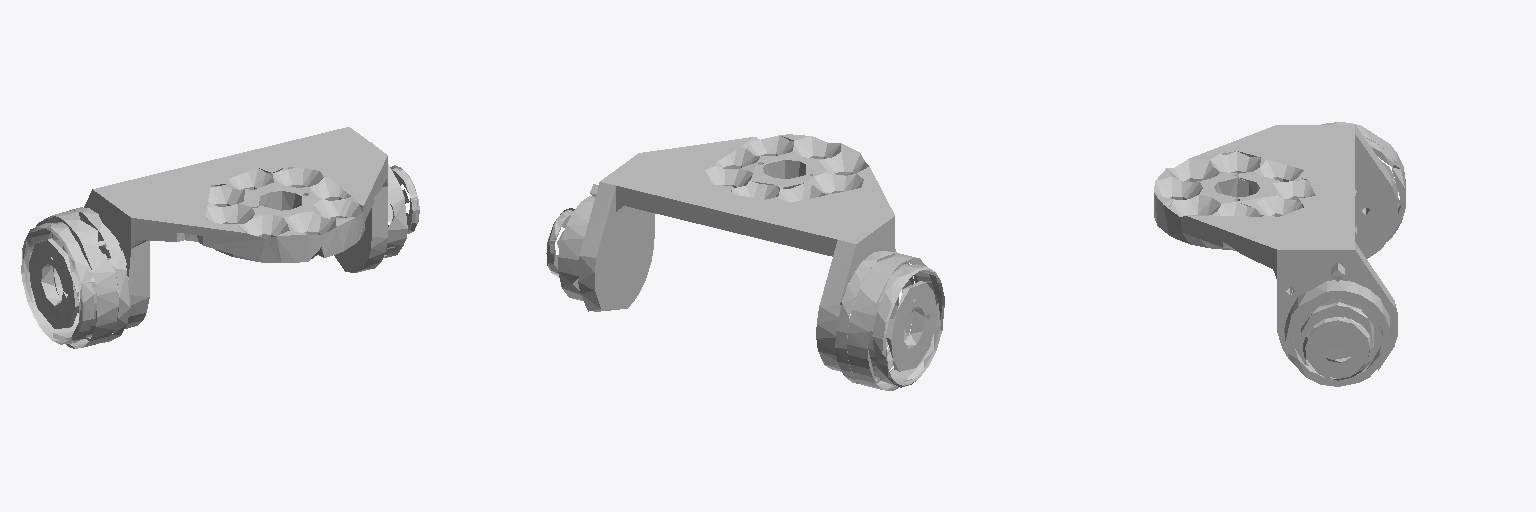
Rendered from sim_ecub_1-1_l_ankle_1.obj.
The picture shows the model from 3 angles: view 1: azimuth 30°, elevation 25°; view 2: azimuth 150°, elevation 25°; view 3: azimuth 270°, elevation 25°; orthographic projection.
Size of the model in its own units: 142 by 53.79 by 87.86.